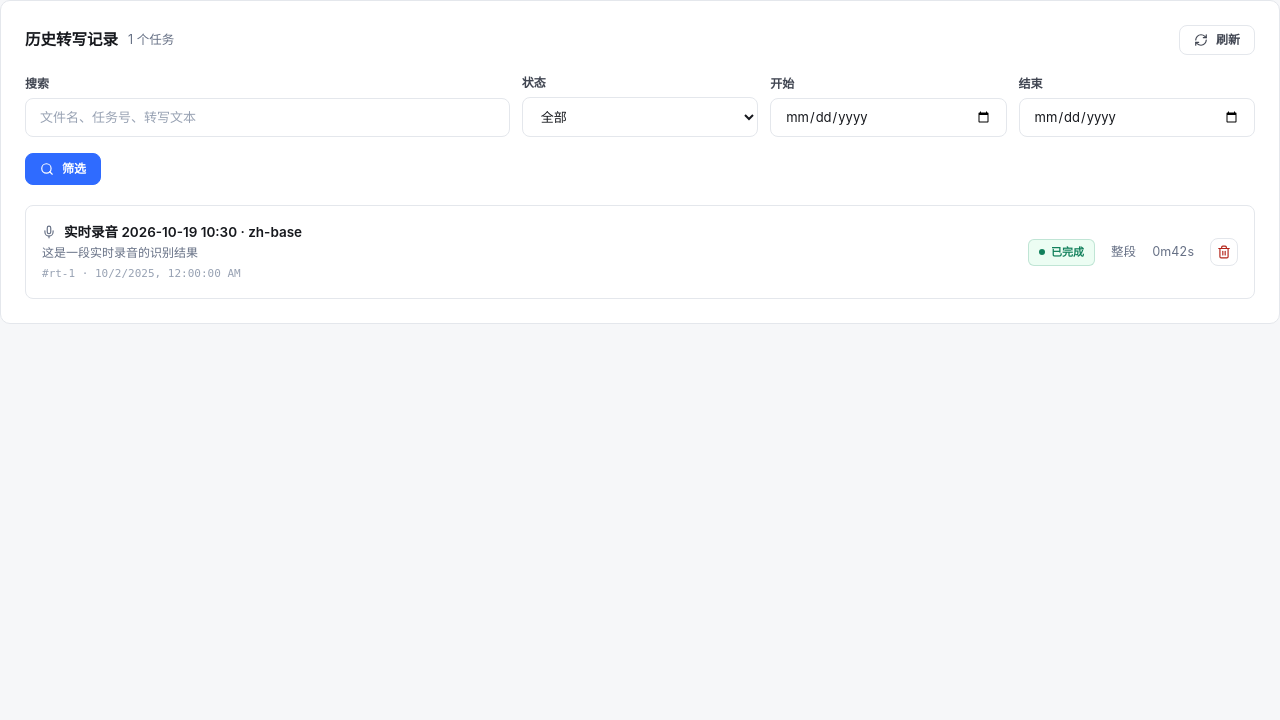
Test case: <HistoryView /> item actions › reads an archived realtime recording in place, not in the file workspace
The image size is (1280, 720).
Click the button with aria-label "查看录音：实时录音 2026-10-19 10:30 · zh-base". click: [183, 232]
box: [42,222,1012,282]
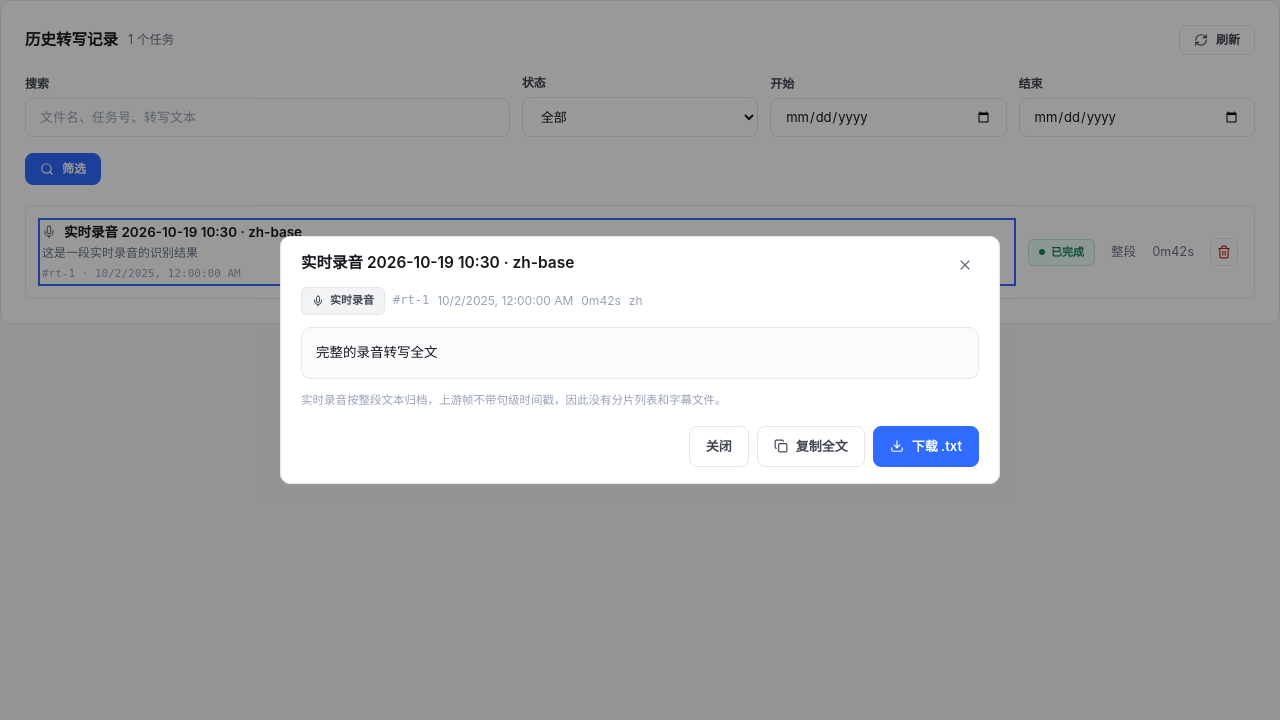
Result: the text "完整的录音转写全文" is shown at [301,327,979,379]
